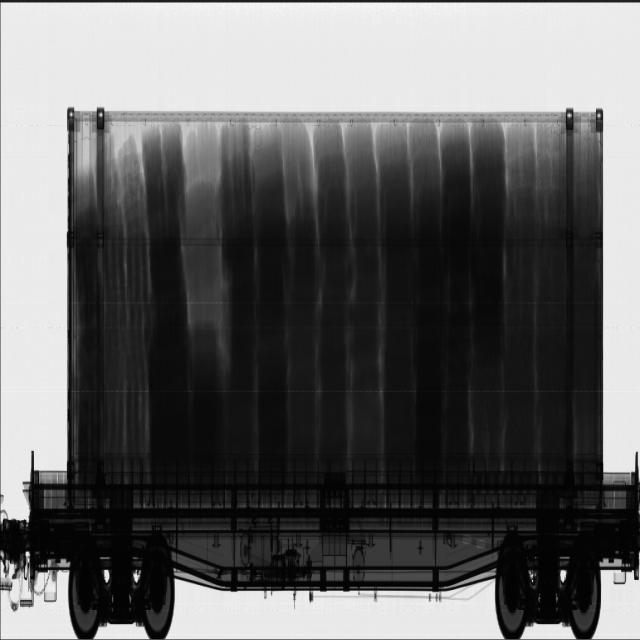textile: (54, 120, 451, 470)
